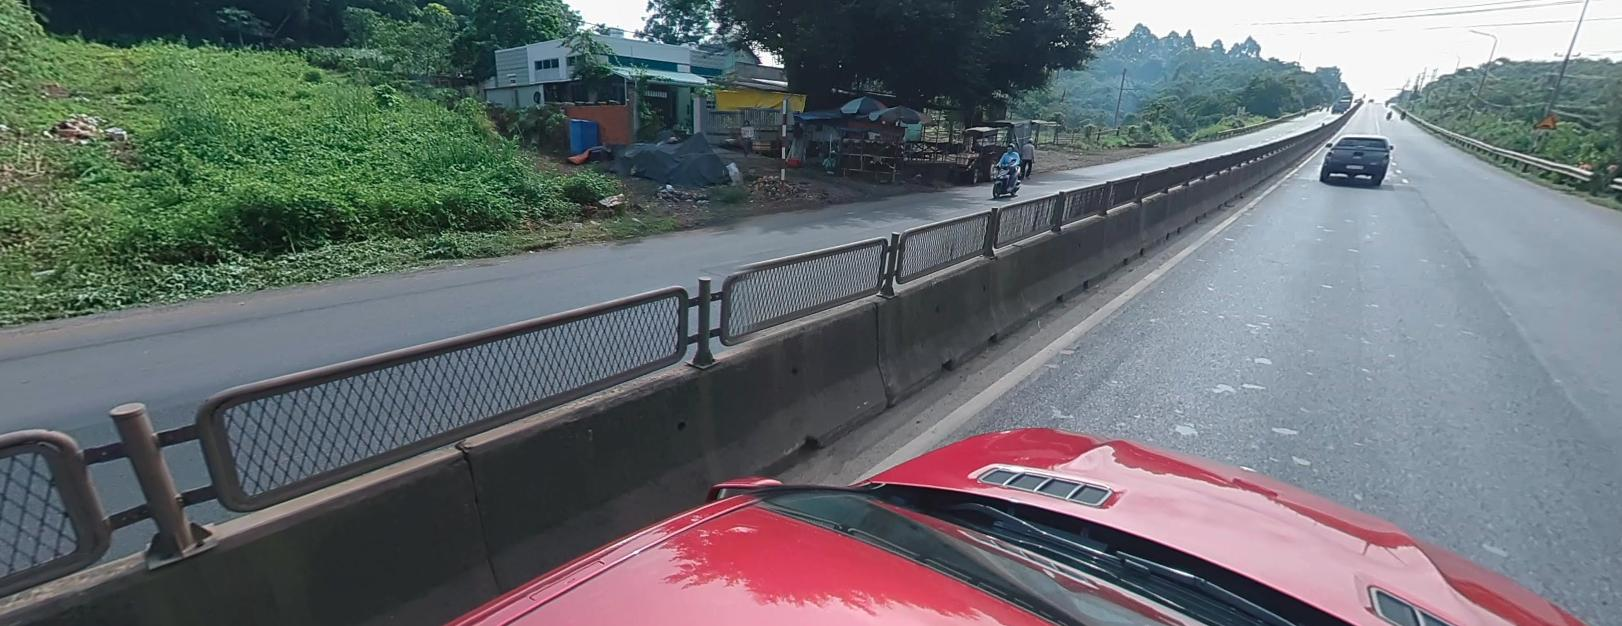Nguy hiem: (1533, 113, 1556, 128)
